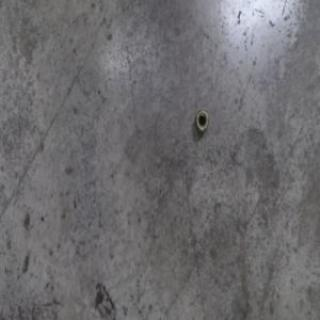Nuttrack_idkeyframe: (195, 108, 208, 132)
